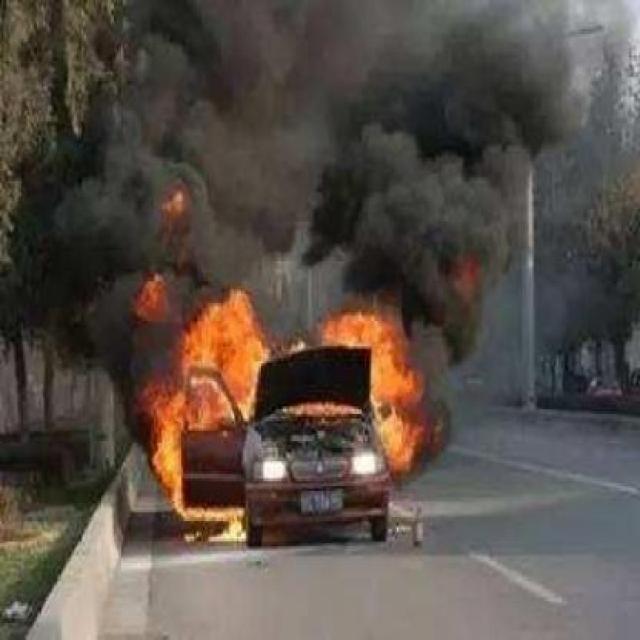Fire: (123, 180, 455, 543)
